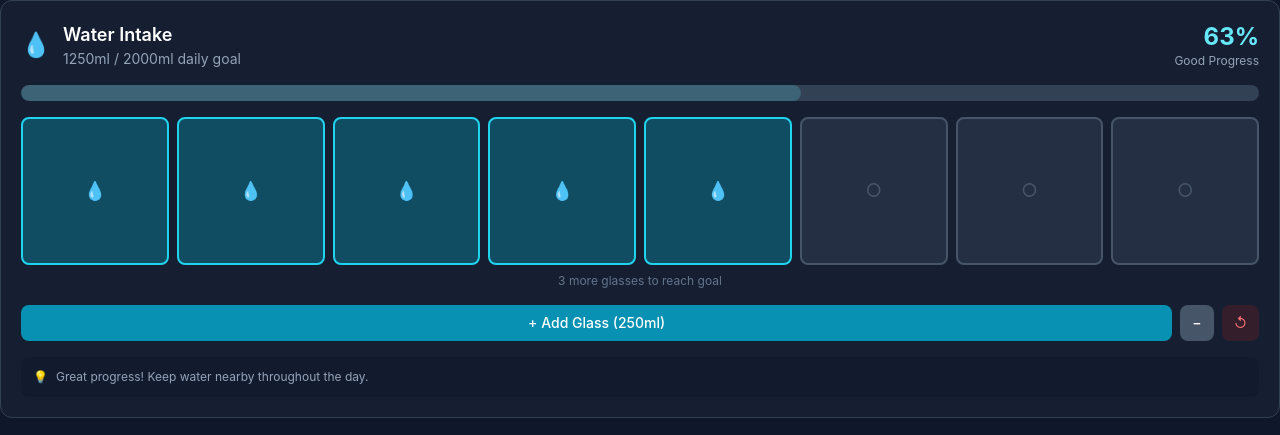
WaterTracker Component › Reset Functionality › should reset water intake when clicking reset
The width and height of the screenshot is (1280, 435).
Expected: the text "1250ml / 2000ml daily goal" is shown, [63,49,241,69]
Click the button titled "Reset today's intake" at (1240, 323), box [1222,305,1259,341]
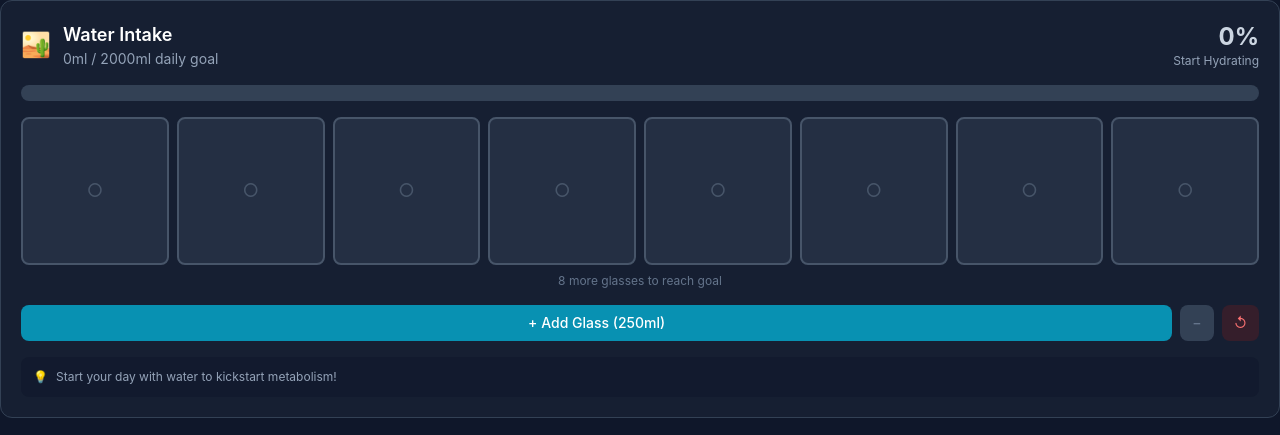
Expected: the text "0ml / 2000ml daily goal" is shown, [63,49,218,69]
Expected: the text "0%" is shown, [1218,22,1259,51]
